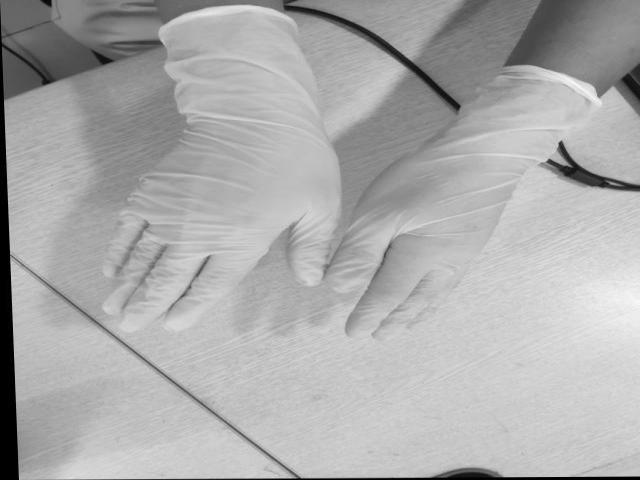gloved: (96, 113, 342, 333), (324, 129, 516, 342)
